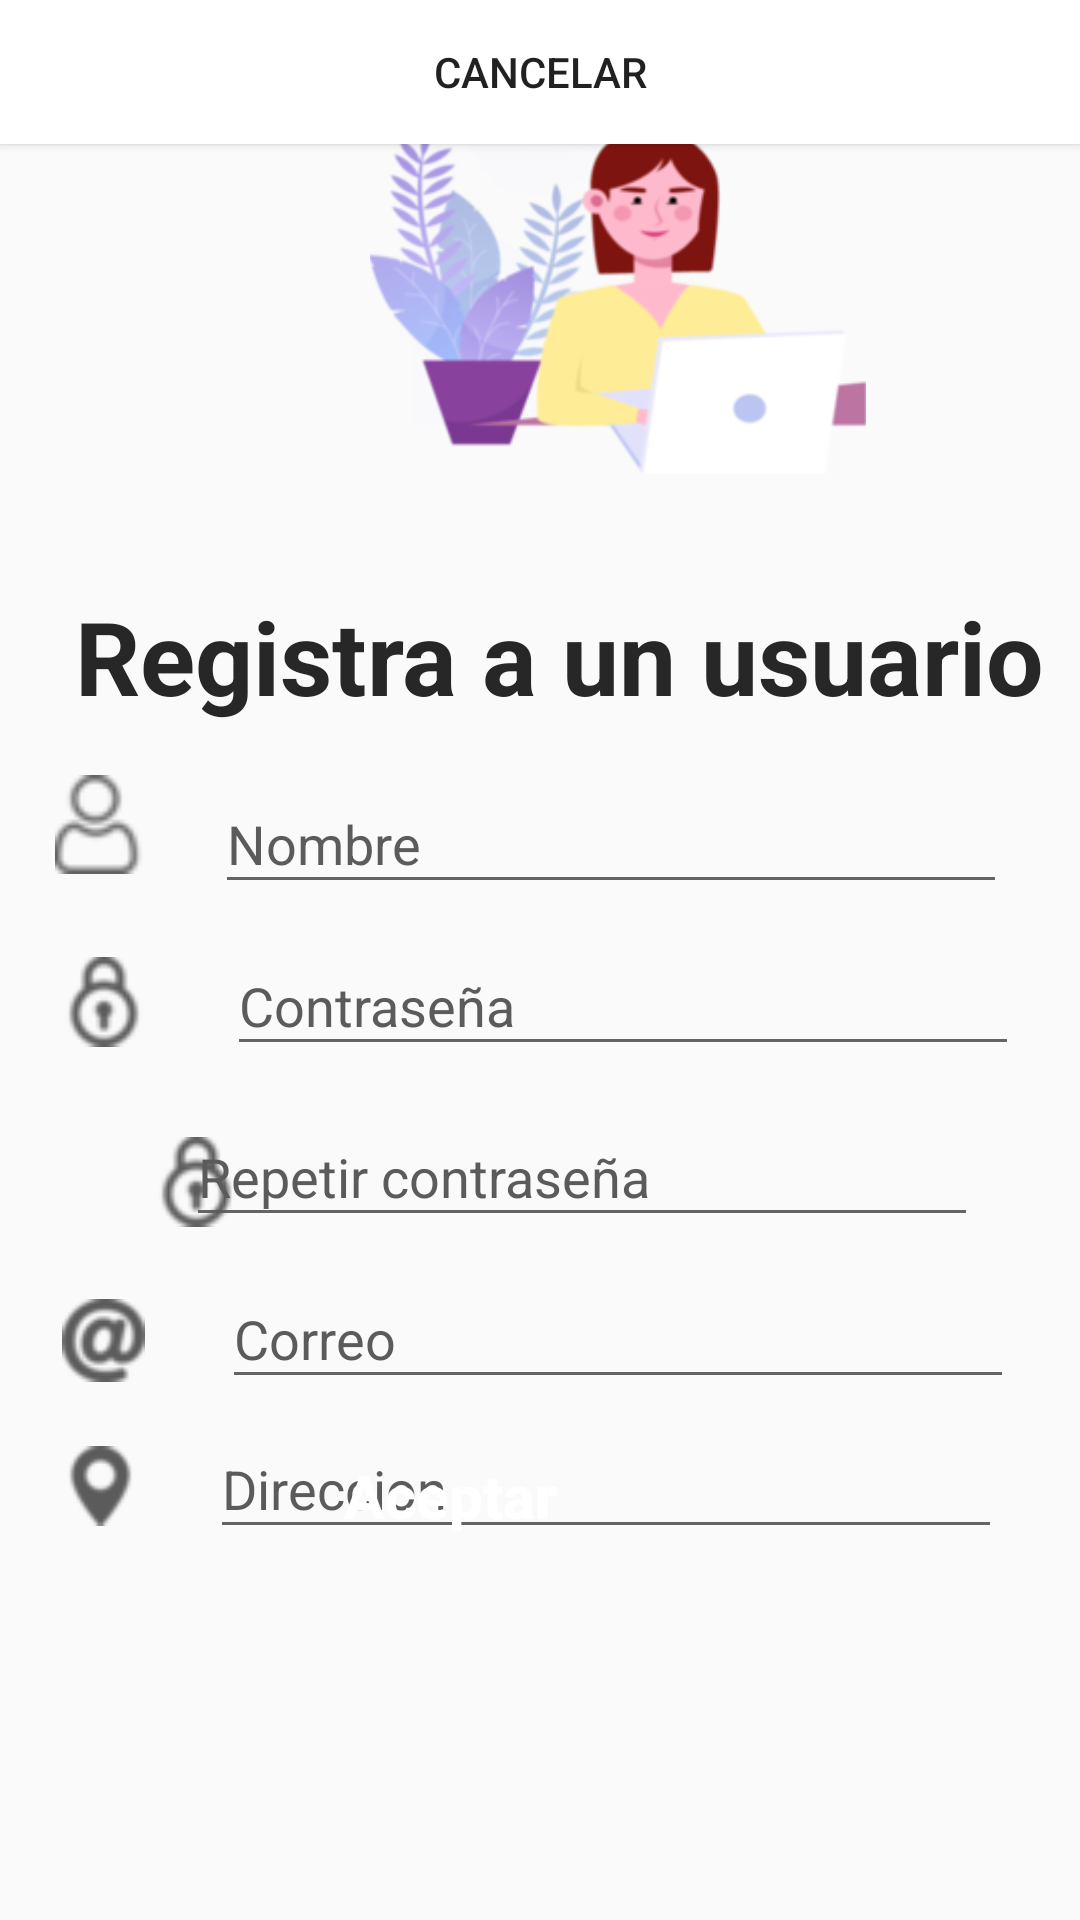

Icon bounding boxes for this 1080px x 1920px phone screenshot, format [x1, y1, x2, y2]:
user: [55, 775, 140, 874]
